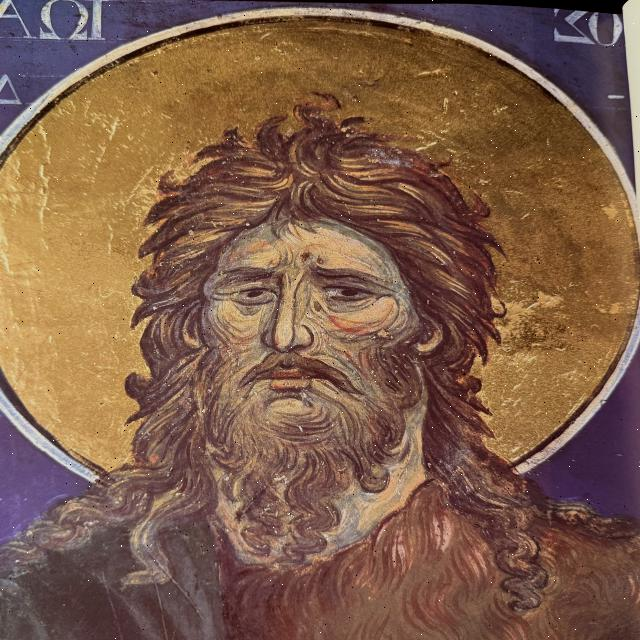aura: (1, 9, 640, 493)
saint: (5, 12, 629, 638)
